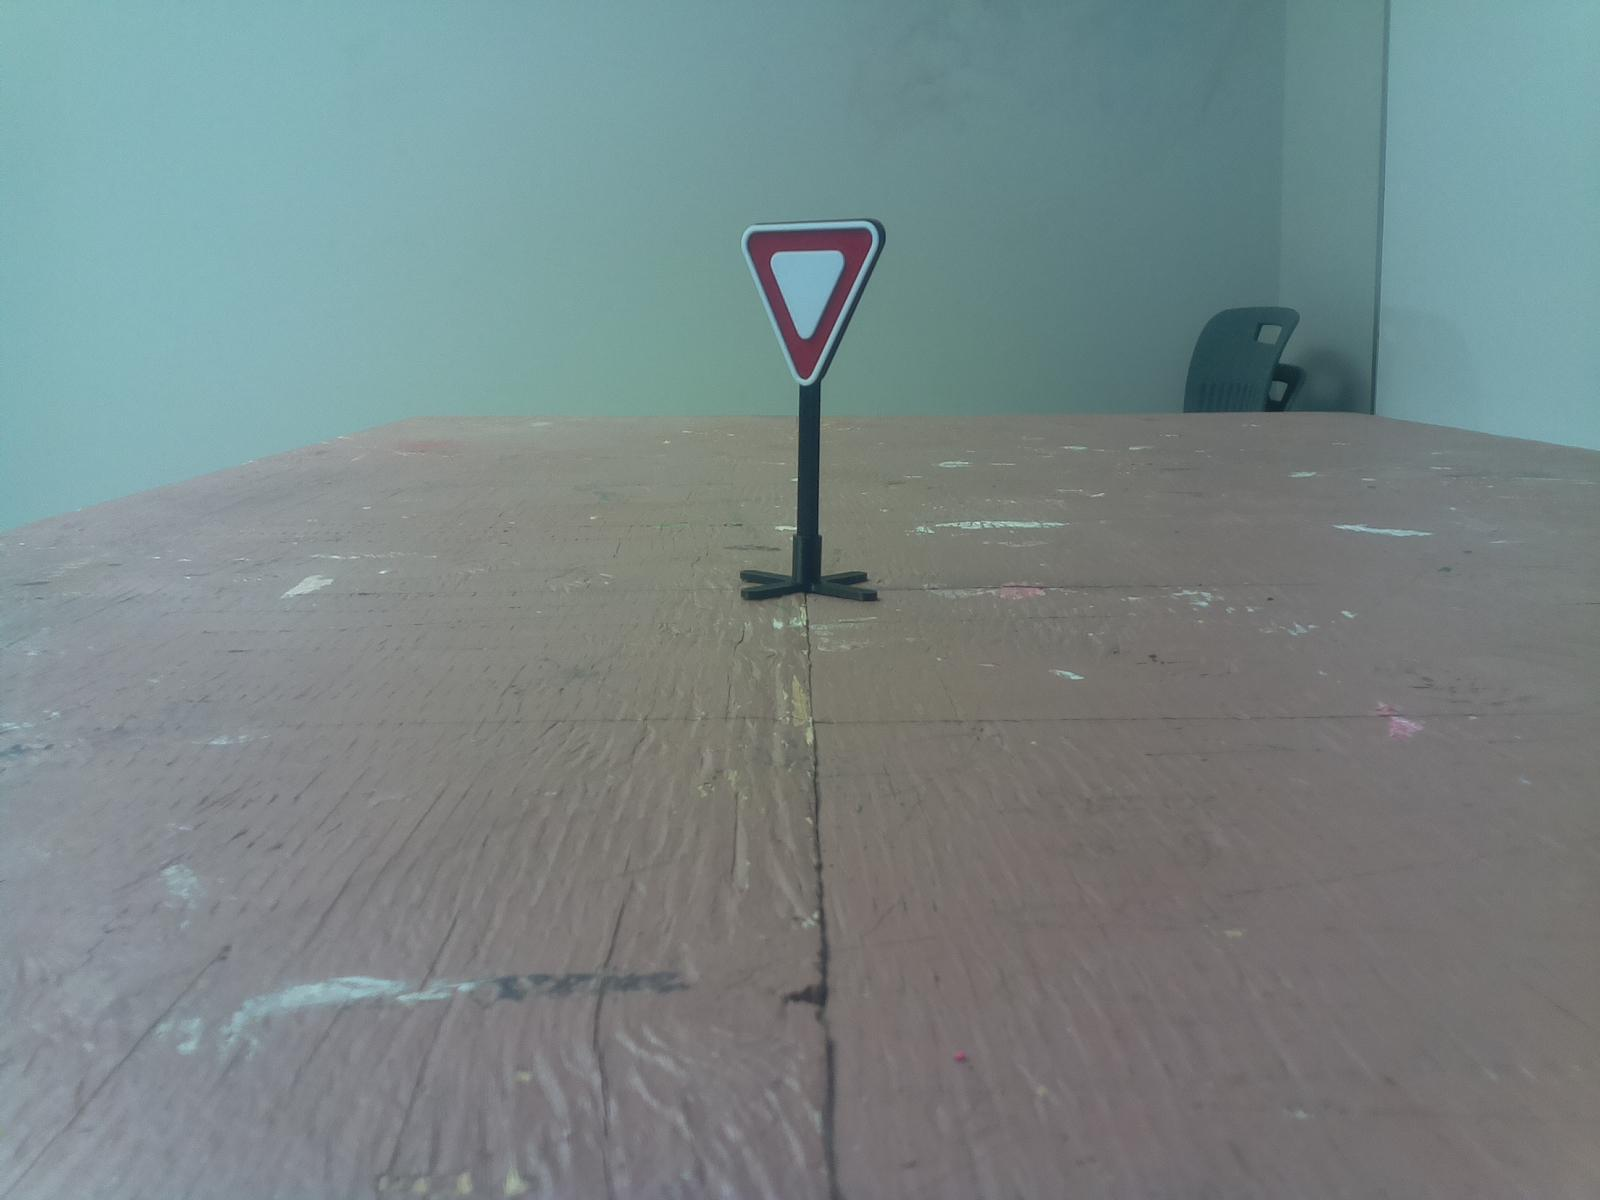sign_yield: (718, 209, 905, 397)
